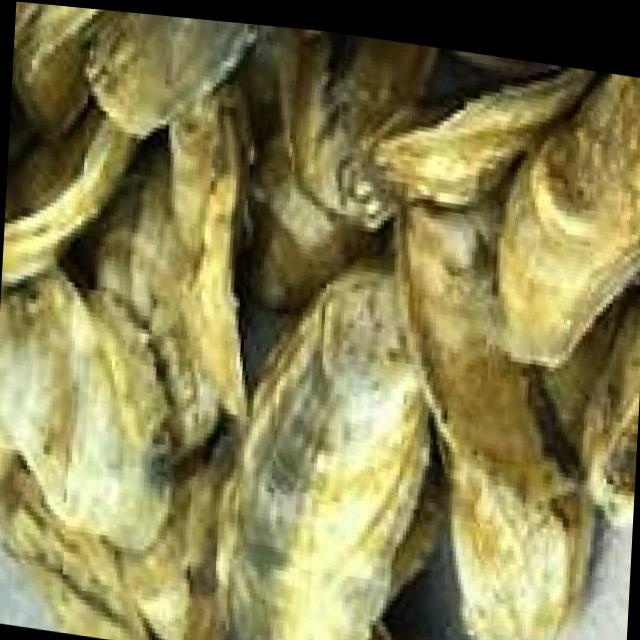Oyster-Closed: (2, 117, 144, 280), (168, 87, 252, 315), (247, 26, 334, 203), (91, 149, 185, 306), (35, 5, 112, 55)
Oyster-Indeterminate: (224, 266, 430, 640), (396, 376, 638, 640), (398, 202, 578, 502), (0, 272, 172, 555), (496, 72, 640, 367), (369, 67, 608, 216), (234, 134, 377, 320), (307, 49, 431, 227), (92, 12, 258, 135), (25, 39, 93, 138), (14, 2, 45, 52)
Oyster-Open: (80, 291, 240, 475)
